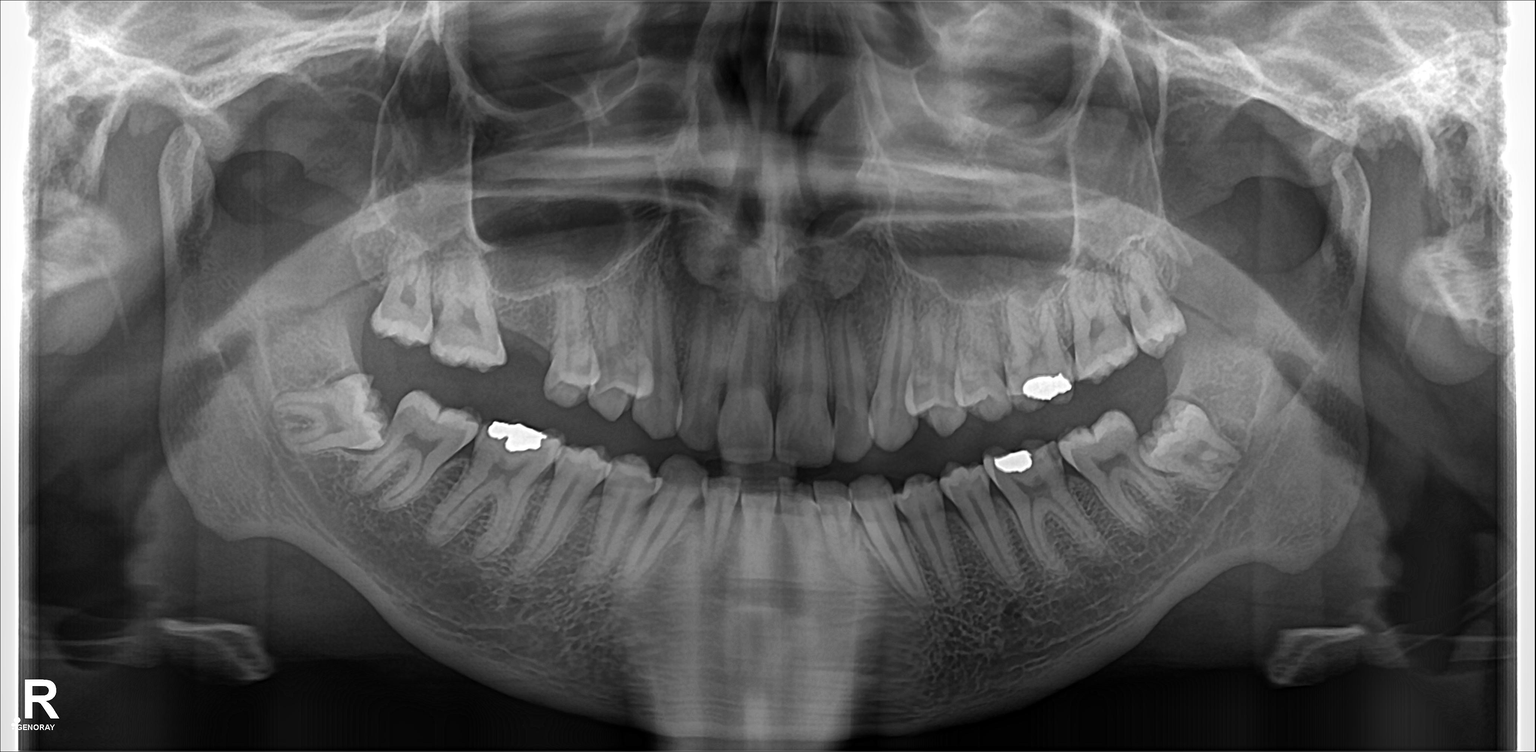Impacted Third Molar: (276, 378, 389, 450), (1149, 400, 1241, 480)
Missing Tooth: (507, 287, 551, 386), (338, 240, 383, 332)
